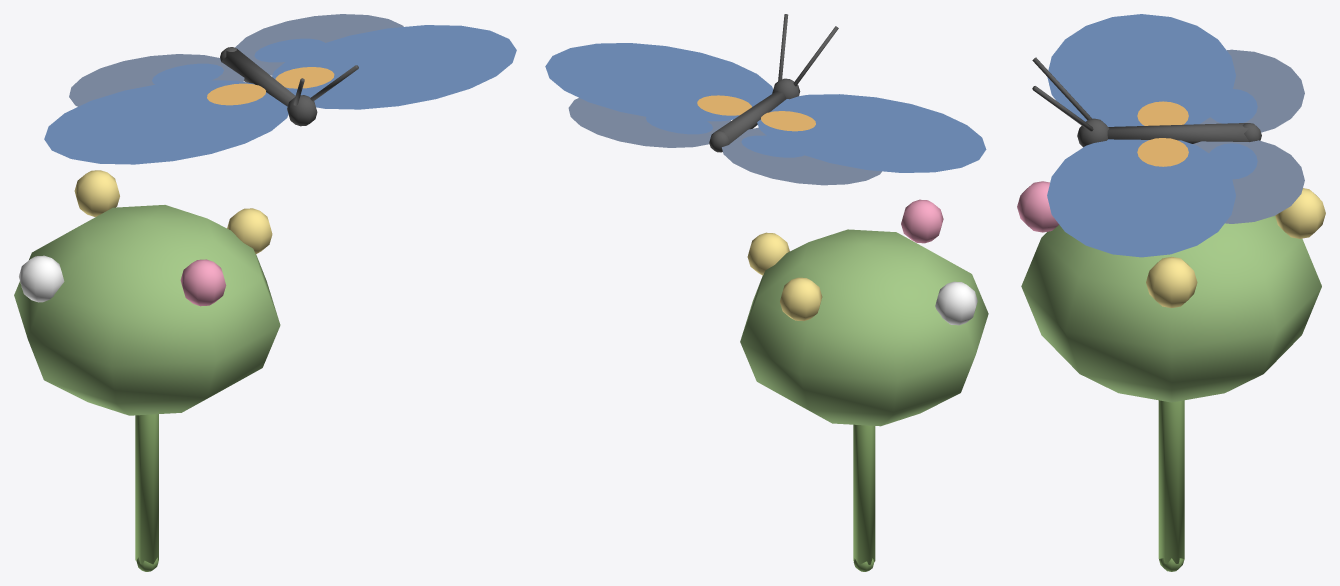
File: orange-oakleaf.glb
3 renders of one model, left to right at view 1: azimuth 30°, elevation 25°; view 2: azimuth 150°, elevation 25°; view 3: azimuth 270°, elevation 25°, orthographic. The views are drawn at different scales.
Parts seen in each view (by area): view 1: e, wingdisc, wingdisc.004, e.007; view 2: e, wingdisc, wingdisc.004, e.007; view 3: e, wingdisc.004, wingdisc, e.007.
Boxes of the visible parts, x1,y1,x2,y2 form: e: (14,170,280,571); wingdisc: (44,54,288,164); wingdisc.004: (235,14,516,109); e.007: (220,47,358,126); e: (740,199,988,571); wingdisc: (722,94,986,185); wingdisc.004: (545,43,773,147); e.007: (709,14,838,152); e: (1017,181,1325,571); wingdisc.004: (1047,138,1304,257); wingdisc: (1047,14,1304,132); e.007: (1032,57,1261,147).
Size of the model in its own units: 1.38 by 1.44 by 0.7187.
